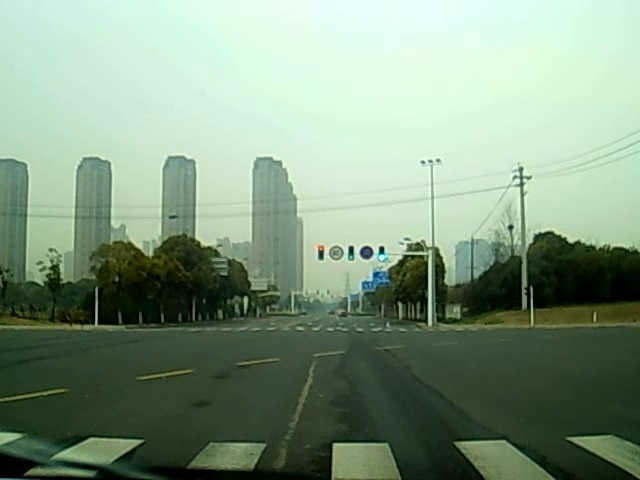Traffic_Light_go: (378, 247, 386, 264), (347, 248, 354, 262)
Traffic_Light_stop: (317, 244, 324, 262)
